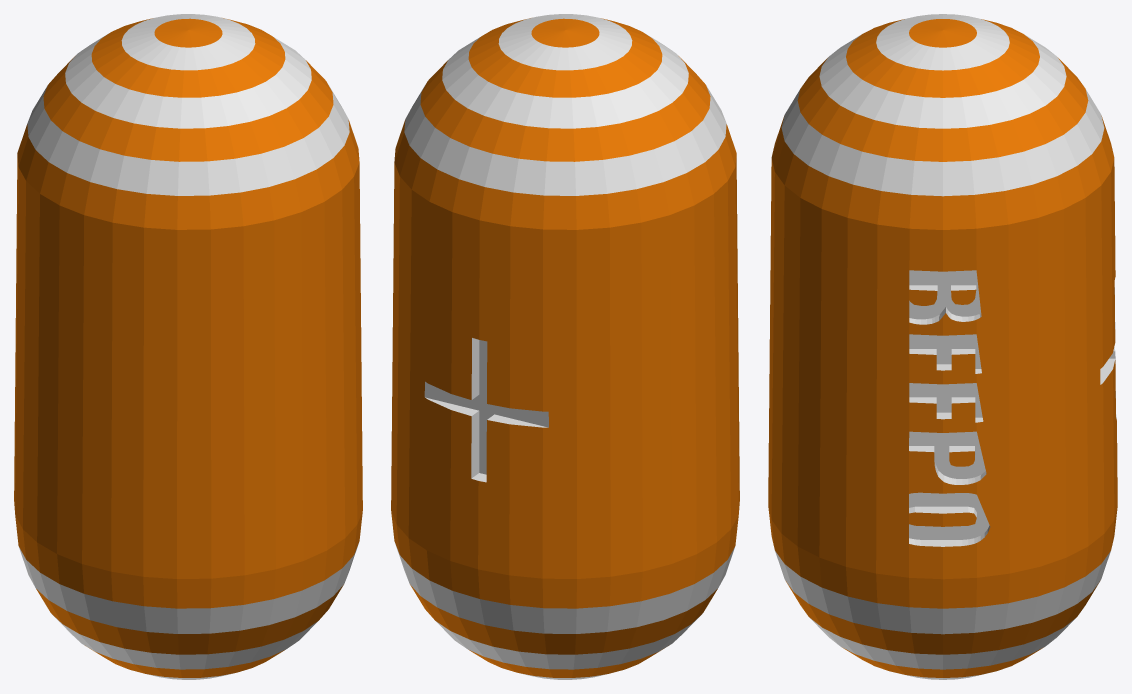
File: playermodel.fbx
3 renders of one model, left to right at view 1: azimuth 30°, elevation 25°; view 2: azimuth 150°, elevation 25°; view 3: azimuth 270°, elevation 25°, orthographic.
Visible parts, largest first — view 1: Sphere.001; view 2: Sphere.001; view 3: Sphere.001.
Boxes of the visible parts, box(x1,y1,x2,y2) form: Sphere.001: box(14, 14, 362, 679); Sphere.001: box(391, 14, 739, 679); Sphere.001: box(768, 14, 1117, 679).
Size of the model in its own units: 200 by 400 by 200.
